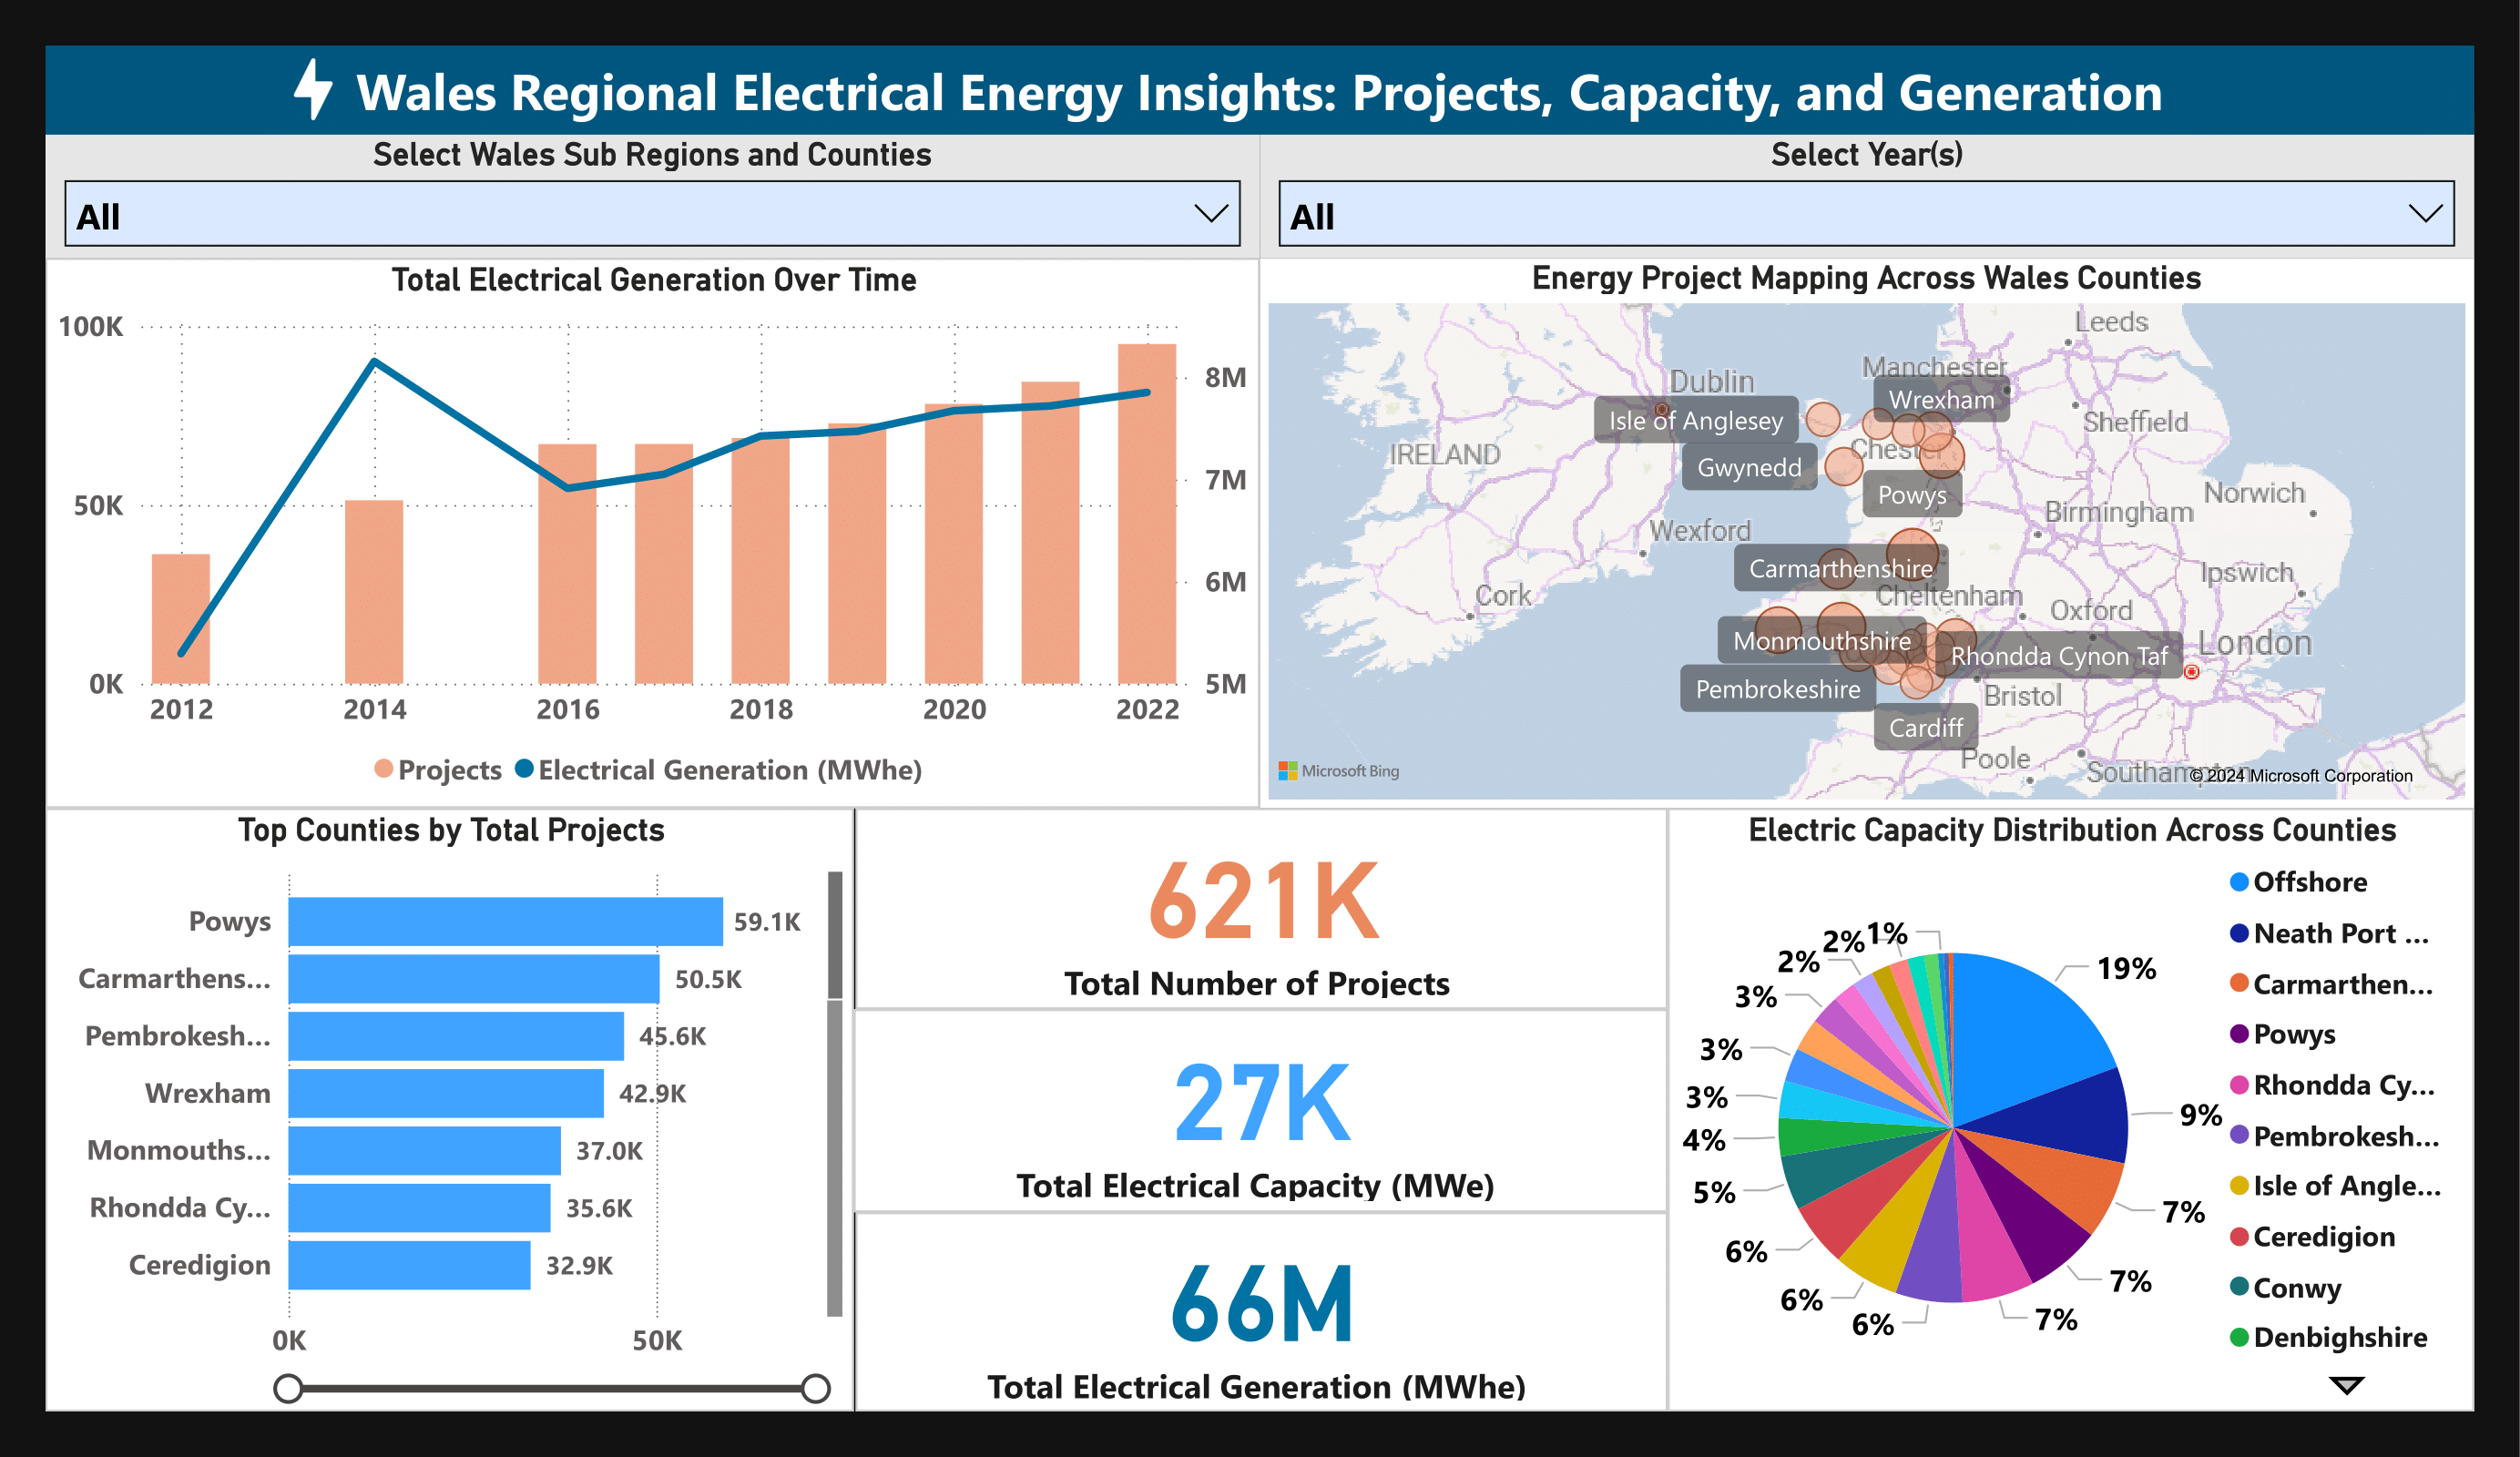

Layout of this report page (visuals, bound fields, positions):
{"tool":"powerbi","page":{"name":"Wales Regional Electrical Energy Insights","canvas":[1280,720],"ordinal":0},"visuals":[{"type":"textbox","box":[0,0,1280,46.7],"z":0},{"type":"slicer","title":"Select Wales Sub Regions and Counties","fields":{"Values":["Wales_dataset.wales_subregion","Wales_dataset.wales_counties"]},"box":[0,46.7,640,65],"z":1000},{"type":"map","title":"Energy Project Mapping Across Wales Counties","fields":{"Category":["Wales_dataset.wales_counties"],"Size":["Sum(Wales_dataset.Number of Projects )"]},"box":[640,111.7,640,290],"z":2000},{"type":"slicer","title":"Select Year(s)","fields":{"Values":["Wales_dataset.Year"]},"box":[640,46.7,640,65],"z":3000},{"type":"clusteredBarChart","title":"Top Counties by Total Projects","fields":{"Category":["Wales_dataset.wales_counties"],"Y":["Sum(Wales_dataset.Number of Projects )"]},"box":[0,401.7,426,318.3],"z":4000},{"type":"lineClusteredColumnComboChart","title":"Total Electrical Generation Over Time","fields":{"Category":["Wales_dataset.Year"],"Y2":["Sum(Wales_dataset.Electrical Generation (MWhe) )"],"Y":["Sum(Wales_dataset.Number of Projects )"]},"box":[0,111.7,640,290],"z":5000},{"type":"pieChart","title":"Electric Capacity Distribution Across Counties","fields":{"Category":["Wales_dataset.wales_counties"],"Y":["Sum(Wales_dataset.Electrical Capacity (MWe) )"]},"box":[855,401.7,425,318.3],"z":6000},{"type":"card","fields":{"Values":["Sum(Wales_dataset.Number of Projects )"]},"box":[426.9,401.5,428.5,106.9],"z":7000},{"type":"card","fields":{"Values":["Sum(Wales_dataset.Electrical Capacity (MWe) )"]},"box":[426.2,508.5,429.2,106.9],"z":8000},{"type":"card","fields":{"Values":["Sum(Wales_dataset.Electrical Generation (MWhe) )"]},"box":[426.9,615.4,428.5,104.6],"z":9000},{"type":"image","box":[118.3,0,45.8,45.8],"z":10000}]}

Visuals, with their boxes on the page's 1280x720 design canvas (x1, y1, x2, y2). These are canvas units, not pixel positions in the 2520x1457 screenshot, which may show the page scaled, cropped or inside an application window:
textbox: locate(0, 0, 1280, 47)
"Select Wales Sub Regions and Counties" slicer: locate(0, 47, 640, 112)
"Energy Project Mapping Across Wales Counties" map: locate(640, 112, 1280, 402)
"Select Year(s)" slicer: locate(640, 47, 1280, 112)
"Top Counties by Total Projects" clusteredBarChart: locate(0, 402, 426, 720)
"Total Electrical Generation Over Time" lineClusteredColumnComboChart: locate(0, 112, 640, 402)
"Electric Capacity Distribution Across Counties" pieChart: locate(855, 402, 1280, 720)
card - Sum(Wales_dataset.Number of Projects ): locate(427, 402, 855, 508)
card - Sum(Wales_dataset.Electrical Capacity (MWe) ): locate(426, 508, 855, 615)
card - Sum(Wales_dataset.Electrical Generation (MWhe) ): locate(427, 615, 855, 720)
image: locate(118, 0, 164, 46)
